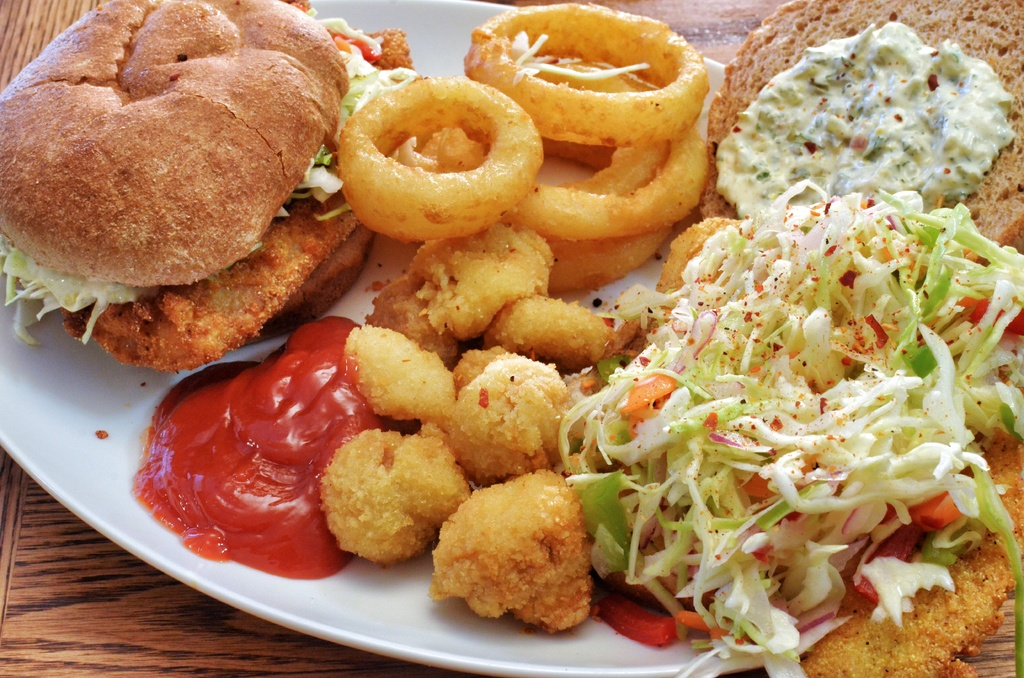Hamburger: (0, 0, 417, 375)
